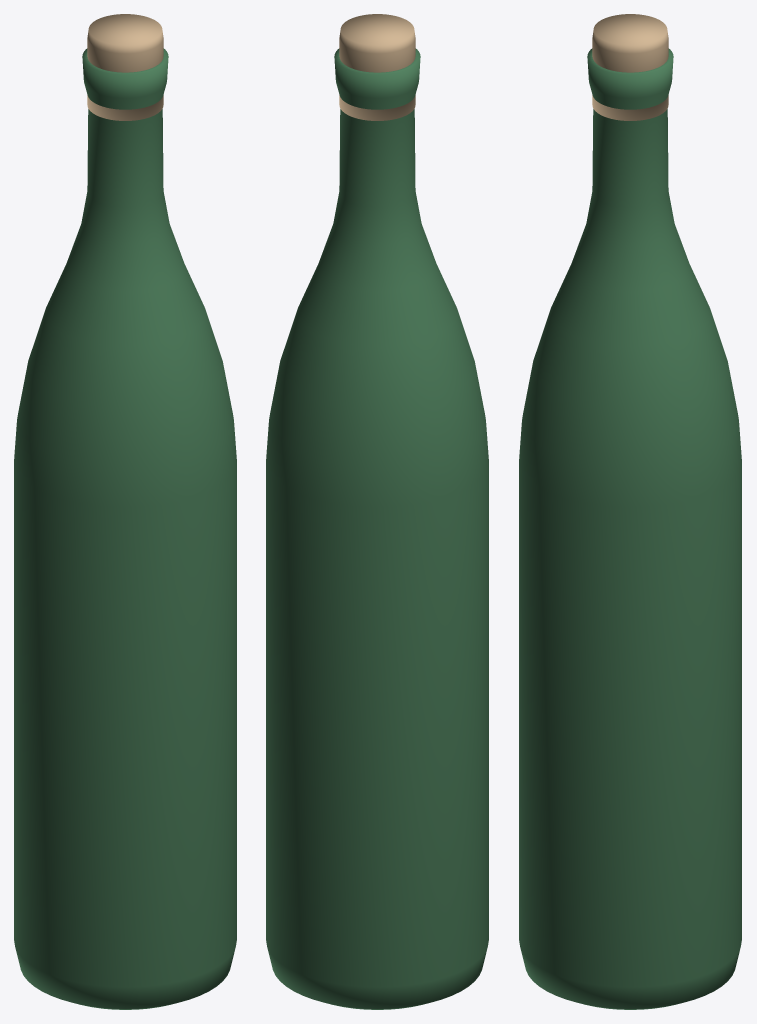
The model's file is wine_bare_medium.glb.
3 views of the same model, side by side, from view 1: azimuth 30°, elevation 25°; view 2: azimuth 150°, elevation 25°; view 3: azimuth 270°, elevation 25° (orthographic).
Parts seen in each view (by area): view 1: Glass, Cap; view 2: Glass, Cap; view 3: Glass, Cap.
Boxes of the visible parts, x1,y1,x2,y2 form: Glass: [14, 48, 236, 1009]; Cap: [87, 14, 163, 120]; Glass: [266, 48, 488, 1009]; Cap: [339, 14, 415, 120]; Glass: [519, 48, 741, 1009]; Cap: [592, 14, 668, 120].
Size of the model in its own units: 0.075 by 0.35 by 0.0757.
